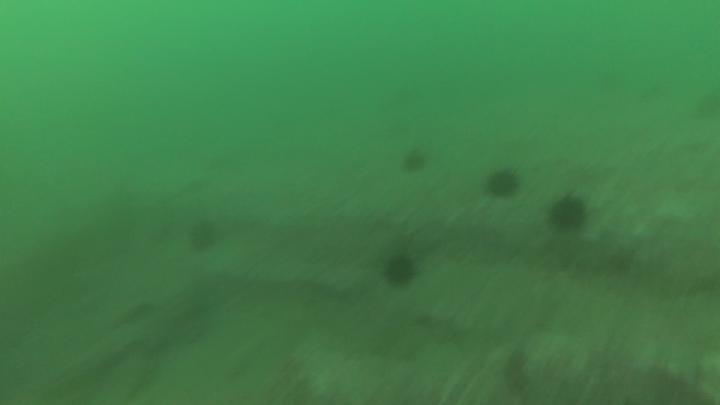echinus: (546, 193, 591, 238), (381, 250, 418, 290), (484, 166, 523, 202), (184, 217, 216, 253), (397, 146, 429, 175)
